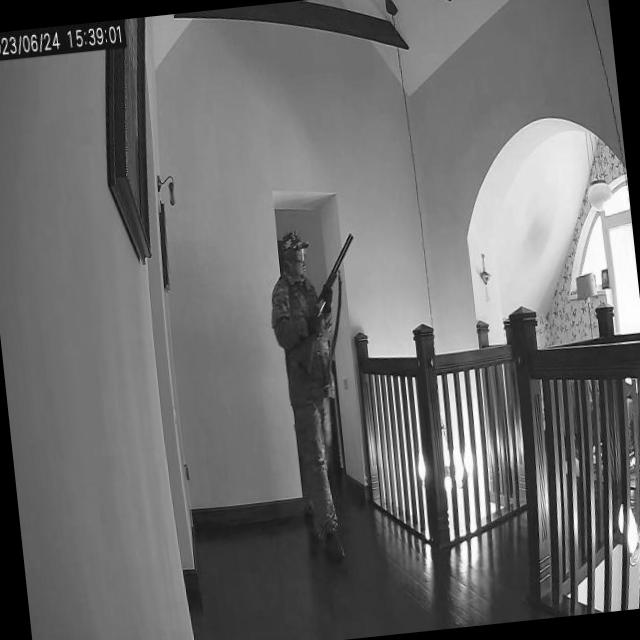gun: (284, 230, 377, 364)
person with a gun: (264, 221, 402, 566)
